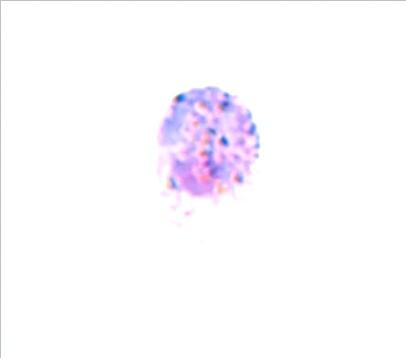Infected: (155, 85, 264, 207)
